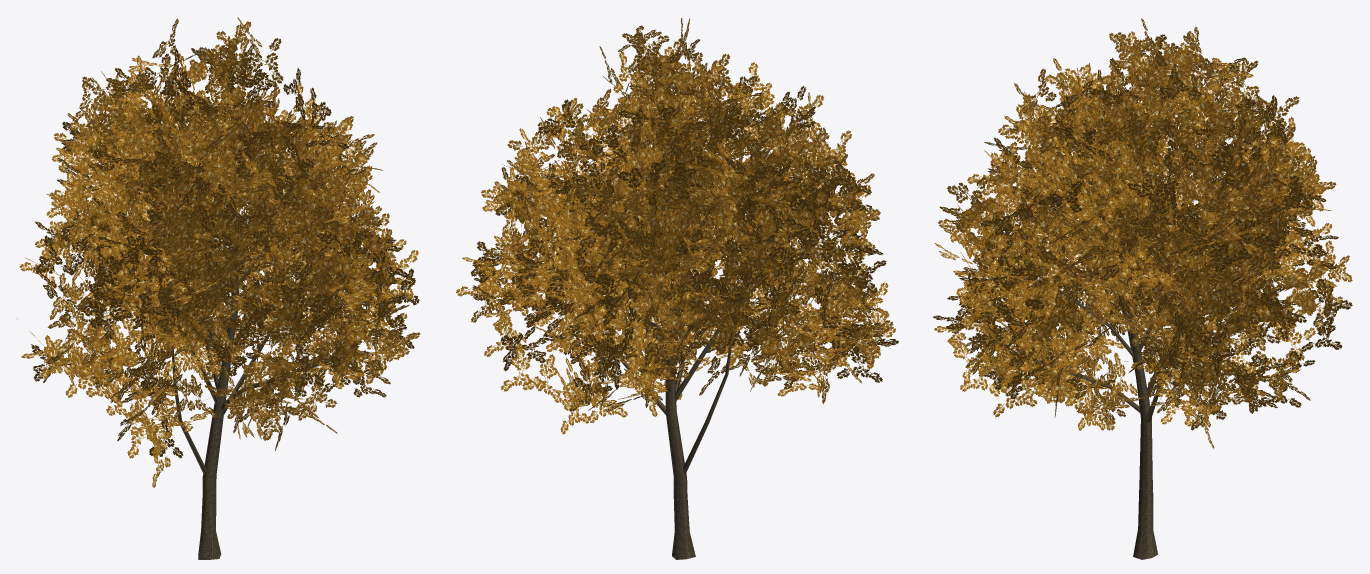
File: Tilia_Americana_Autumn_Young.glb
3 views of the same model, side by side, from view 1: azimuth 30°, elevation 25°; view 2: azimuth 150°, elevation 25°; view 3: azimuth 270°, elevation 25° (orthographic).
Parts seen in each view (by area): view 1: Tilia_Americana_Autumn_Young__LOD3; view 2: Tilia_Americana_Autumn_Young__LOD3; view 3: Tilia_Americana_Autumn_Young__LOD3.
Boxes of the visible parts, x1,y1,x2,y2 form: Tilia_Americana_Autumn_Young__LOD3: [17, 17, 420, 559]; Tilia_Americana_Autumn_Young__LOD3: [456, 18, 898, 559]; Tilia_Americana_Autumn_Young__LOD3: [933, 18, 1352, 559].
Size of the model in its own units: 13.65 by 17.76 by 12.85.
Materials: 2 (2 with a texture image).
